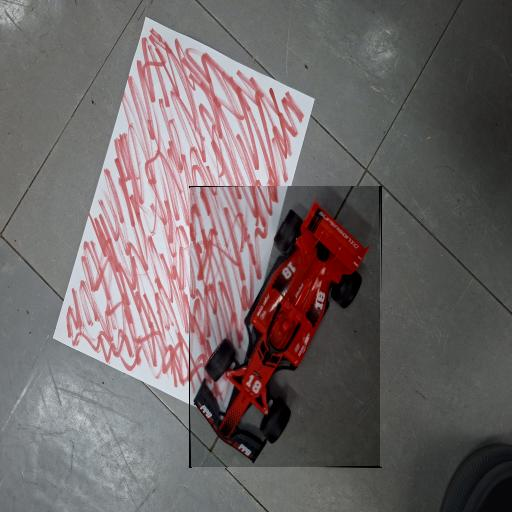carro: (191, 186, 380, 467)
